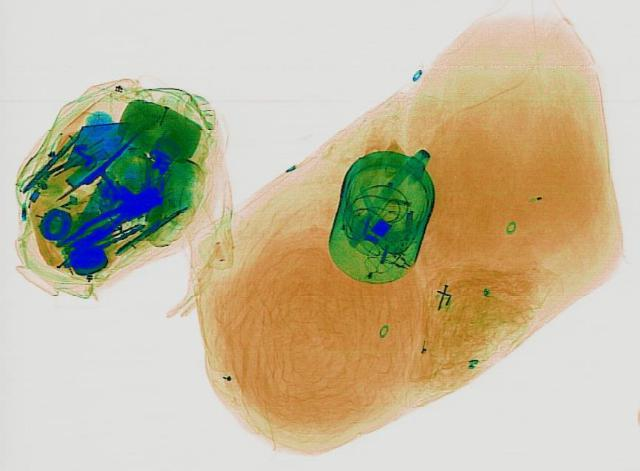Pliers: (48, 184, 166, 257)
